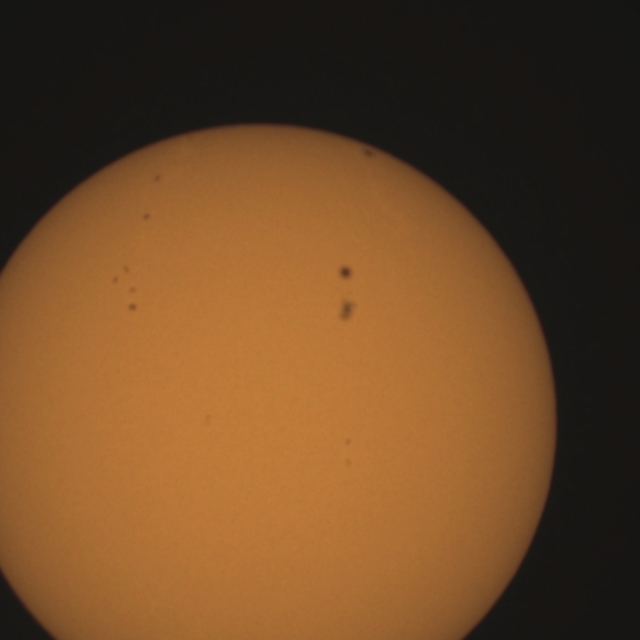sunspot: (336, 294, 358, 325), (111, 264, 134, 293), (342, 432, 354, 468), (126, 285, 140, 315), (336, 263, 355, 283), (127, 284, 138, 302), (126, 300, 139, 314), (342, 456, 354, 469), (362, 148, 375, 160), (152, 172, 163, 185), (141, 211, 152, 223), (343, 437, 353, 448), (111, 274, 120, 286)
